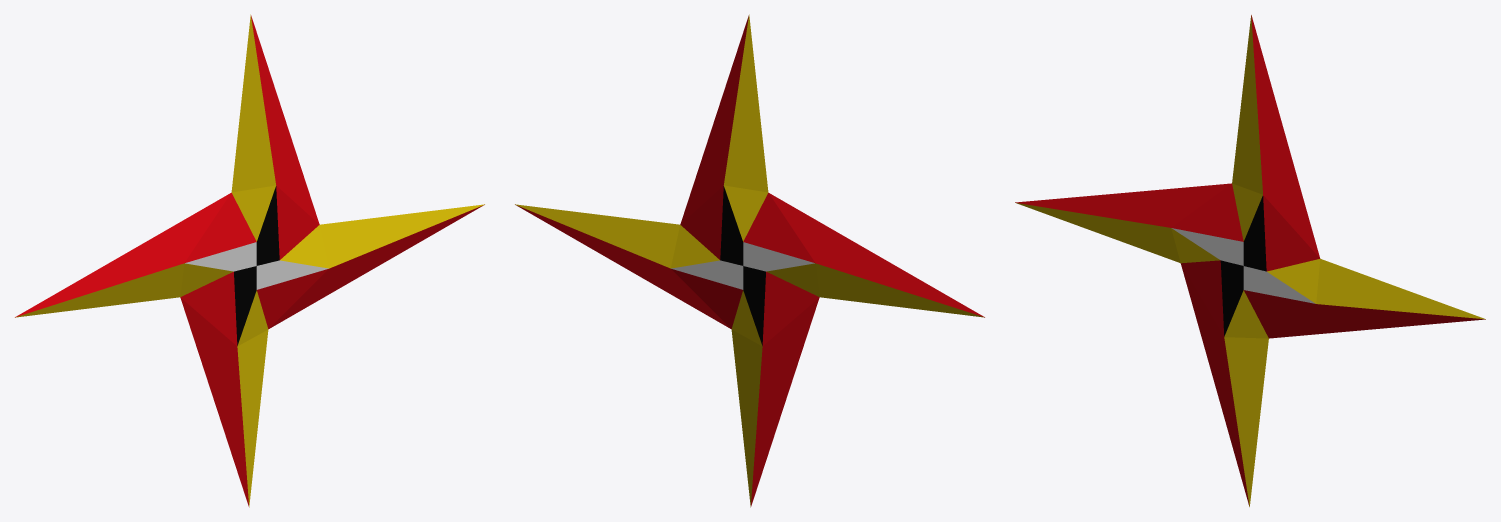
File: сюрикен.dae
3 renders of one model, left to right at view 1: azimuth 30°, elevation 25°; view 2: azimuth 150°, elevation 25°; view 3: azimuth 330°, elevation 25°, orthographic.
Parts seen in each view (by area): view 1: Плоскость; view 2: Плоскость; view 3: Плоскость.
Part boxes in pixels (bbox=[...]): Плоскость: bbox=[15, 14, 484, 507]; Плоскость: bbox=[515, 14, 984, 507]; Плоскость: bbox=[1015, 15, 1485, 506].
Bounding box in the file's own units: 1 × 0.05 × 1.
